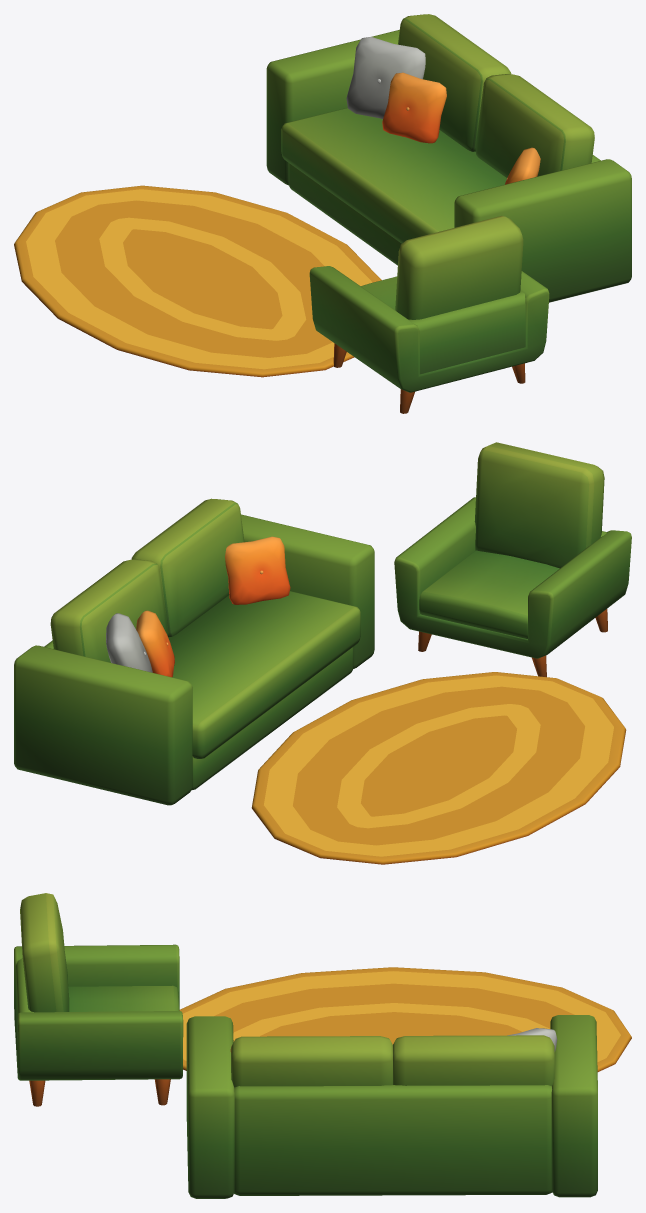
Rendered from Sofa set 3.fbx.
3 renders of one model, top to bottom at view 1: azimuth 30°, elevation 25°; view 2: azimuth 150°, elevation 25°; view 3: azimuth 270°, elevation 25°, orthographic.
Visible parts, largest first — view 1: Sofa_3_Green_Set_LivingRoom_0, Carpet_2_Yellow.001_LivingRoom_0, Armchair_2_Green.001_LivingRoom_0; view 2: Sofa_3_Green_Set_LivingRoom_0, Carpet_2_Yellow.001_LivingRoom_0, Armchair_2_Green.001_LivingRoom_0; view 3: Sofa_3_Green_Set_LivingRoom_0, Armchair_2_Green.001_LivingRoom_0, Carpet_2_Yellow.001_LivingRoom_0.
Part boxes in pixels (<box>): Sofa_3_Green_Set_LivingRoom_0: <box>266,14,631,302</box>; Carpet_2_Yellow.001_LivingRoom_0: <box>14,185,381,377</box>; Armchair_2_Green.001_LivingRoom_0: <box>309,215,549,413</box>; Sofa_3_Green_Set_LivingRoom_0: <box>14,498,374,805</box>; Carpet_2_Yellow.001_LivingRoom_0: <box>251,672,626,864</box>; Armchair_2_Green.001_LivingRoom_0: <box>394,442,631,676</box>; Sofa_3_Green_Set_LivingRoom_0: <box>186,1015,597,1198</box>; Armchair_2_Green.001_LivingRoom_0: <box>14,893,183,1106</box>; Carpet_2_Yellow.001_LivingRoom_0: <box>179,967,631,1071</box>.
Bounding box in the file's own units: 381 × 130 × 439.
1 material, 1 textured.
